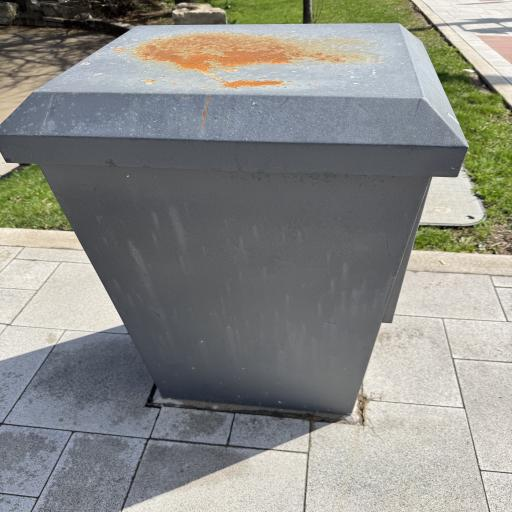Electrical Box: (0, 20, 475, 417)
